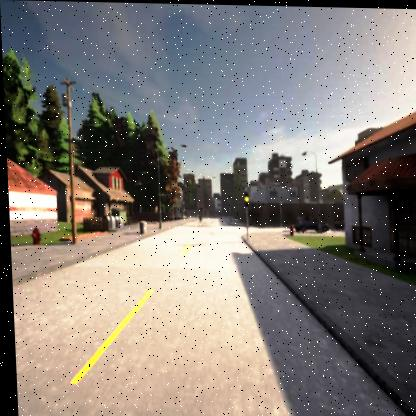vehicle: (293, 215, 327, 234)
